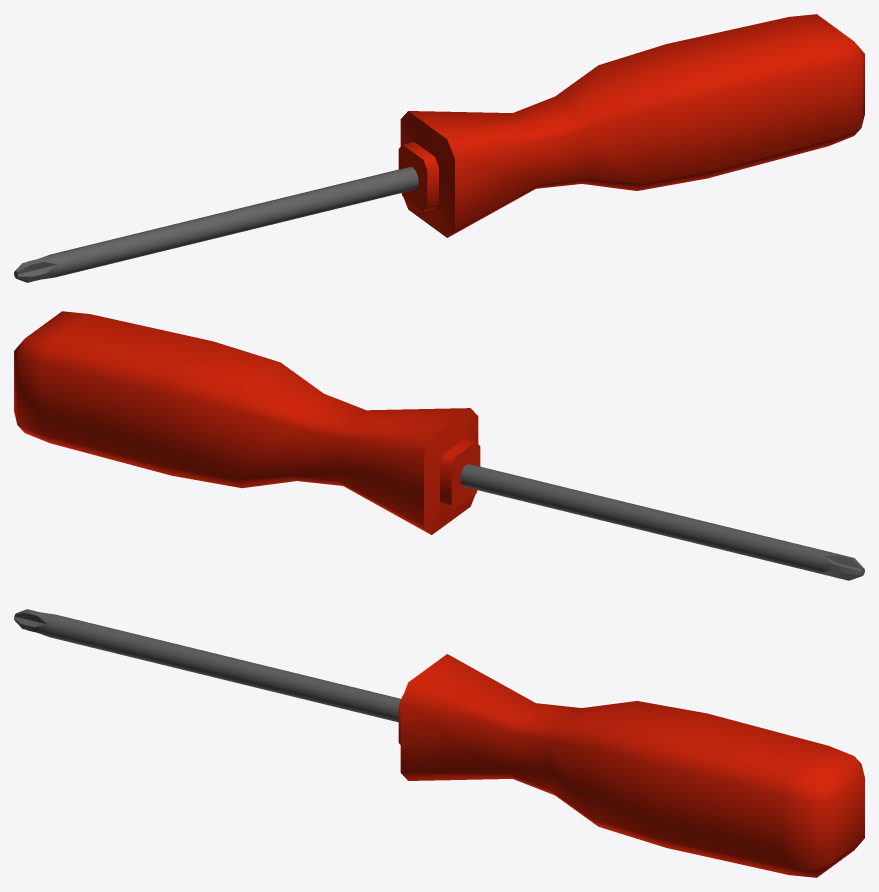
Rendered from sweethome3d-scopia-screwdriver-264.glb.
3 views of the same model, one above another, from view 1: azimuth 30°, elevation 25°; view 2: azimuth 150°, elevation 25°; view 3: azimuth 330°, elevation 25° (orthographic).
Visible parts, largest first — view 1: tournevis_Cube; view 2: tournevis_Cube; view 3: tournevis_Cube.
Part boxes in pixels (<box>): tournevis_Cube: <box>14,14,864,282</box>; tournevis_Cube: <box>14,311,864,580</box>; tournevis_Cube: <box>14,609,864,877</box>.
Bounding box in the file's own units: 25.52 × 3.06 × 3.06.
